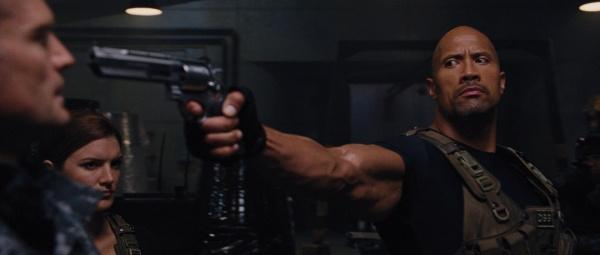Gun: (88, 45, 227, 121)
